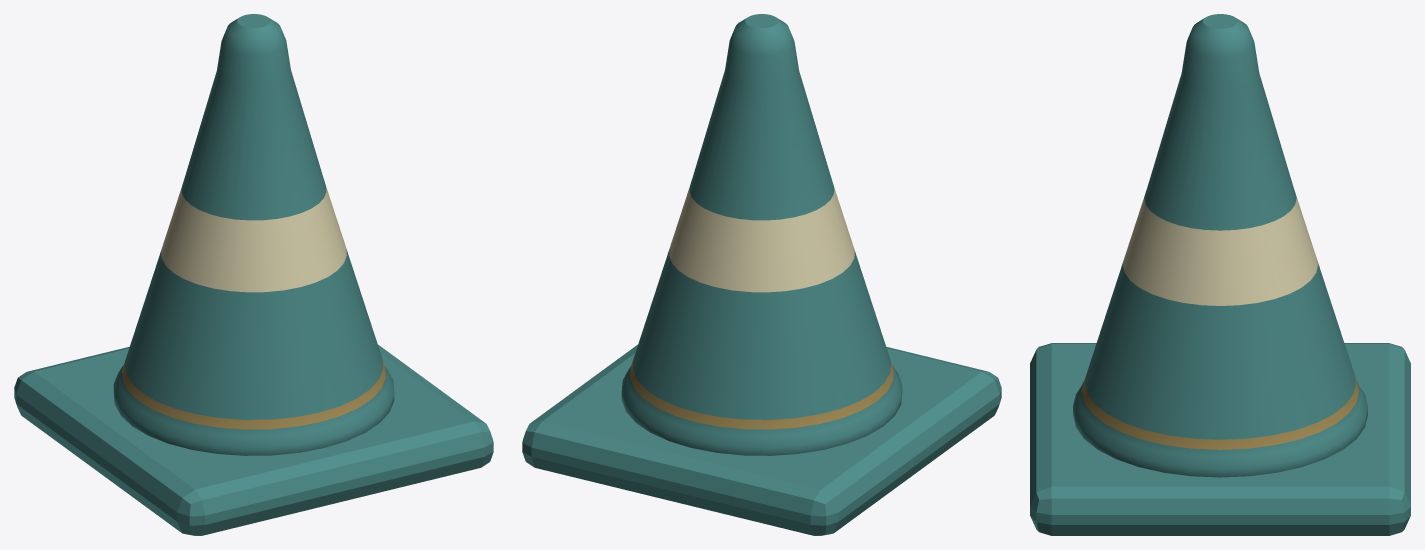
Rendered from course_cone.glb.
The picture shows the model from 3 angles, left to right: view 1: azimuth 30°, elevation 25°; view 2: azimuth 150°, elevation 25°; view 3: azimuth 270°, elevation 25°; orthographic projection. The views are drawn at different scales.
Visible parts, largest first — view 1: Horse_Rounded_Course_Cone; view 2: Horse_Rounded_Course_Cone; view 3: Horse_Rounded_Course_Cone.
Boxes of the visible parts, x1,y1,x2,y2 form: Horse_Rounded_Course_Cone: [14, 14, 493, 535]; Horse_Rounded_Course_Cone: [522, 14, 1001, 535]; Horse_Rounded_Course_Cone: [1030, 14, 1410, 535].
Size of the model in its own units: 0.39 by 0.5 by 0.39.
